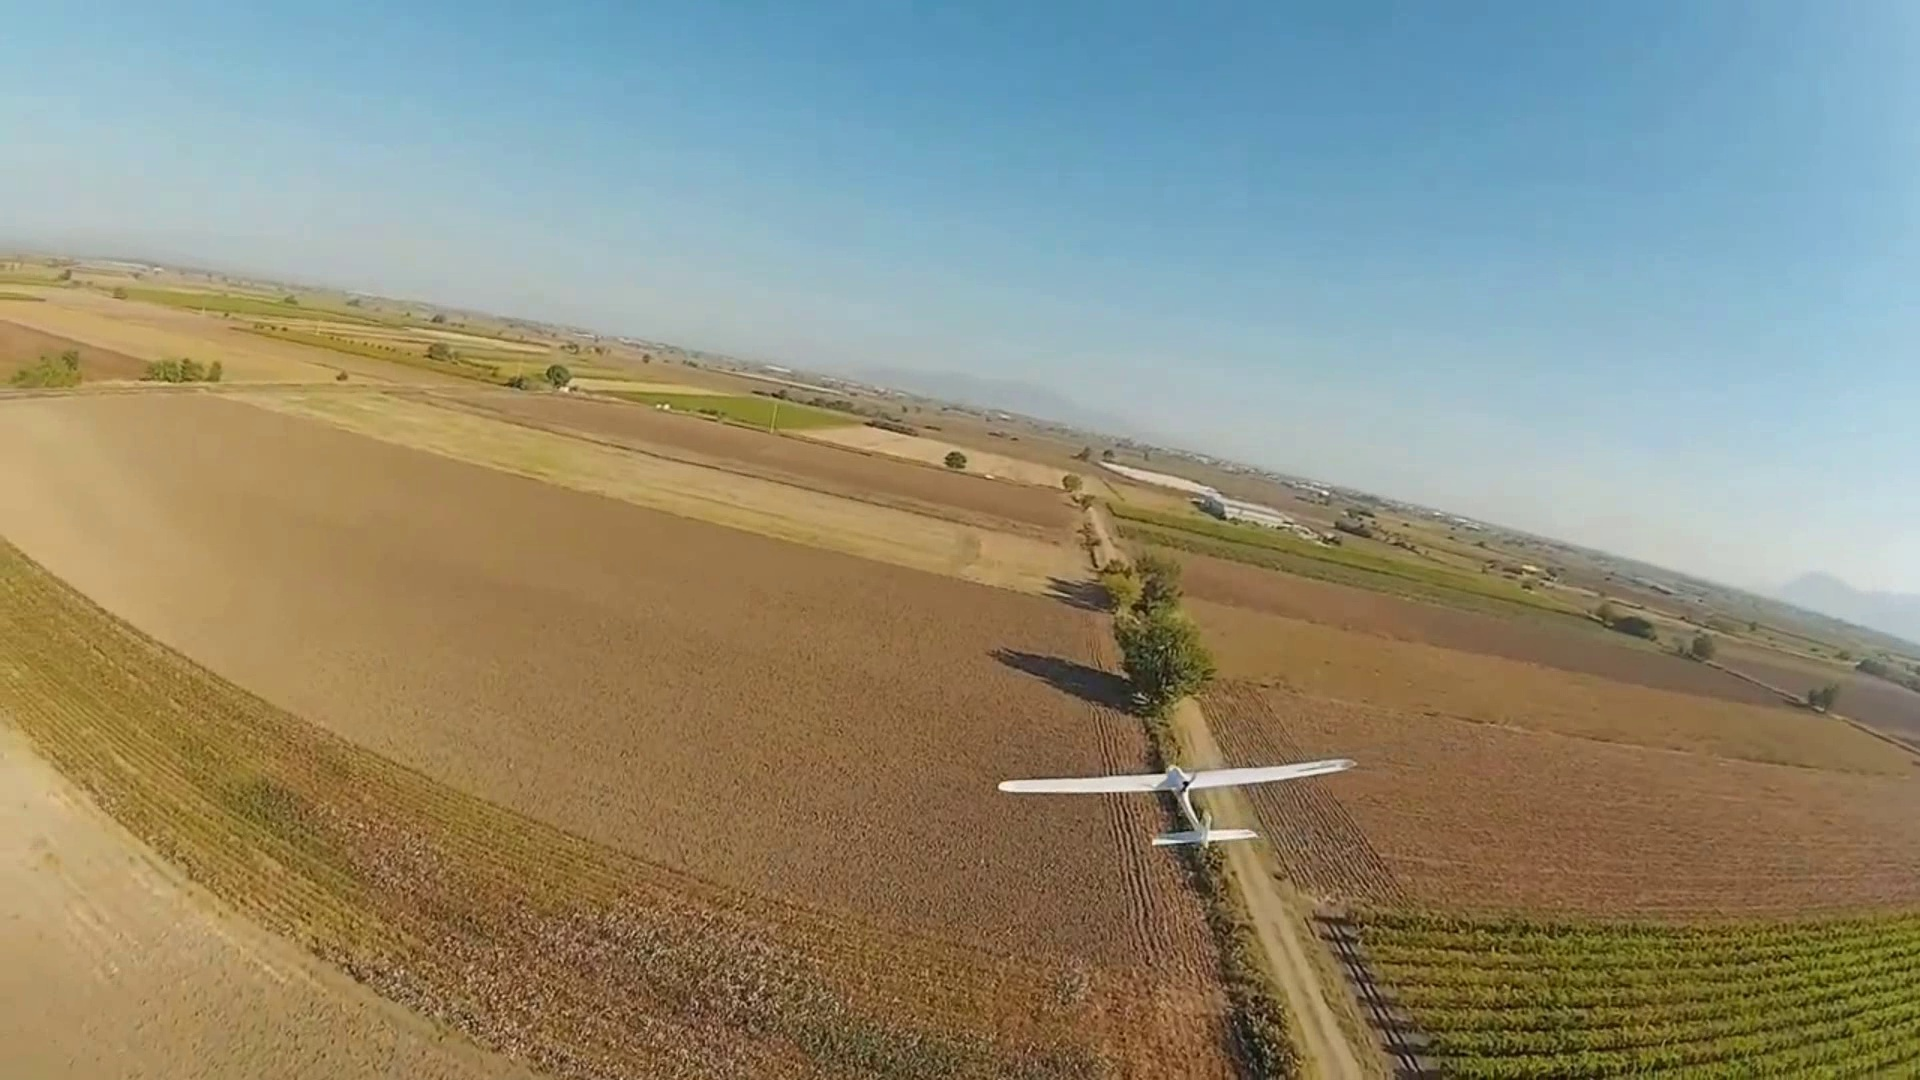airplane: (990, 454, 1358, 853)
